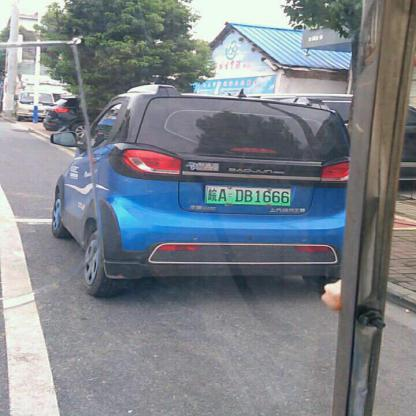lp: (205, 184, 290, 205)
